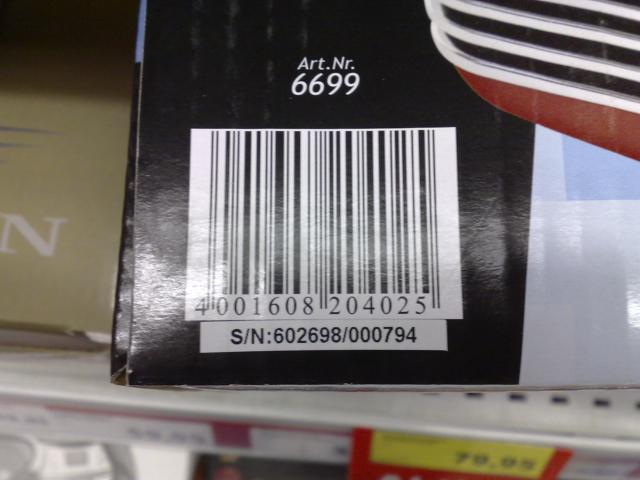Barkod: (204, 129, 440, 295)
